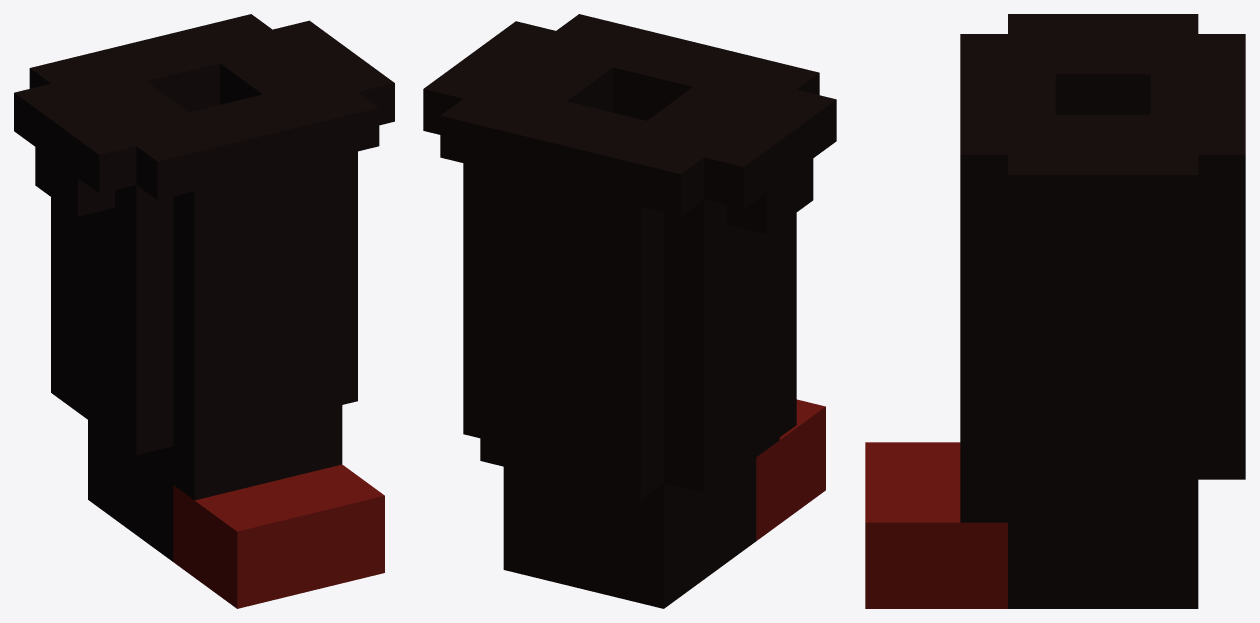
Rendered from leather_masterwork_glove_L_lod1.glb.
3 views of the same model, side by side, from view 1: azimuth 30°, elevation 25°; view 2: azimuth 150°, elevation 25°; view 3: azimuth 270°, elevation 25° (orthographic). The views are drawn at different scales.
Visible parts, largest first — view 1: leather_masterwork_glove_L_lod1; view 2: leather_masterwork_glove_L_lod1; view 3: leather_masterwork_glove_L_lod1.
Part boxes in pixels (x1,y1,x2,y2): leather_masterwork_glove_L_lod1: (14, 14, 394, 608); leather_masterwork_glove_L_lod1: (423, 14, 836, 608); leather_masterwork_glove_L_lod1: (865, 14, 1245, 608).
Size of the model in its own units: 0.192 by 0.264 by 0.192.
